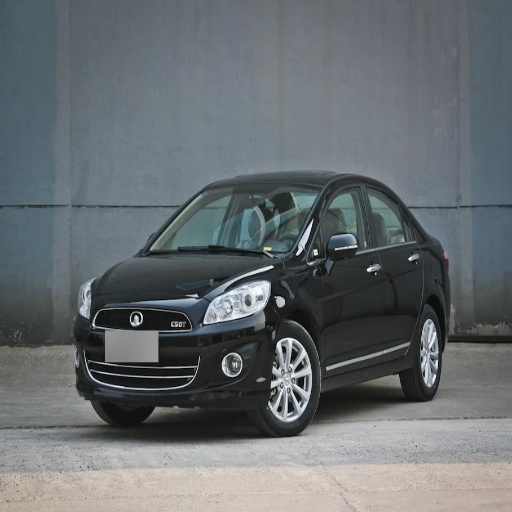front_bumper: (77, 296, 273, 401)
front_glass: (141, 186, 318, 255)
front_left_door: (313, 179, 389, 367)
